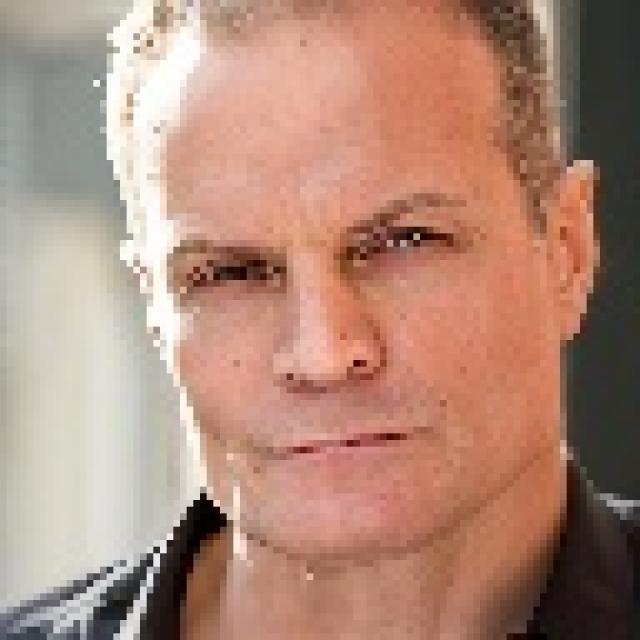angry: (122, 23, 564, 562)
